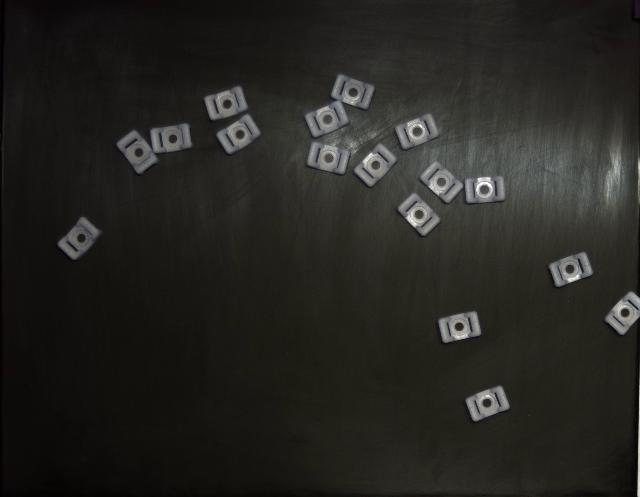first_side: (116, 130, 159, 175), (420, 161, 464, 204), (58, 218, 102, 260), (354, 144, 396, 188), (216, 115, 261, 155), (398, 194, 440, 236), (305, 100, 350, 138), (465, 386, 510, 422), (395, 114, 439, 150), (205, 86, 249, 121), (331, 75, 375, 110), (549, 253, 592, 288), (306, 142, 350, 175), (438, 311, 481, 344), (150, 124, 192, 154), (465, 176, 505, 204)
